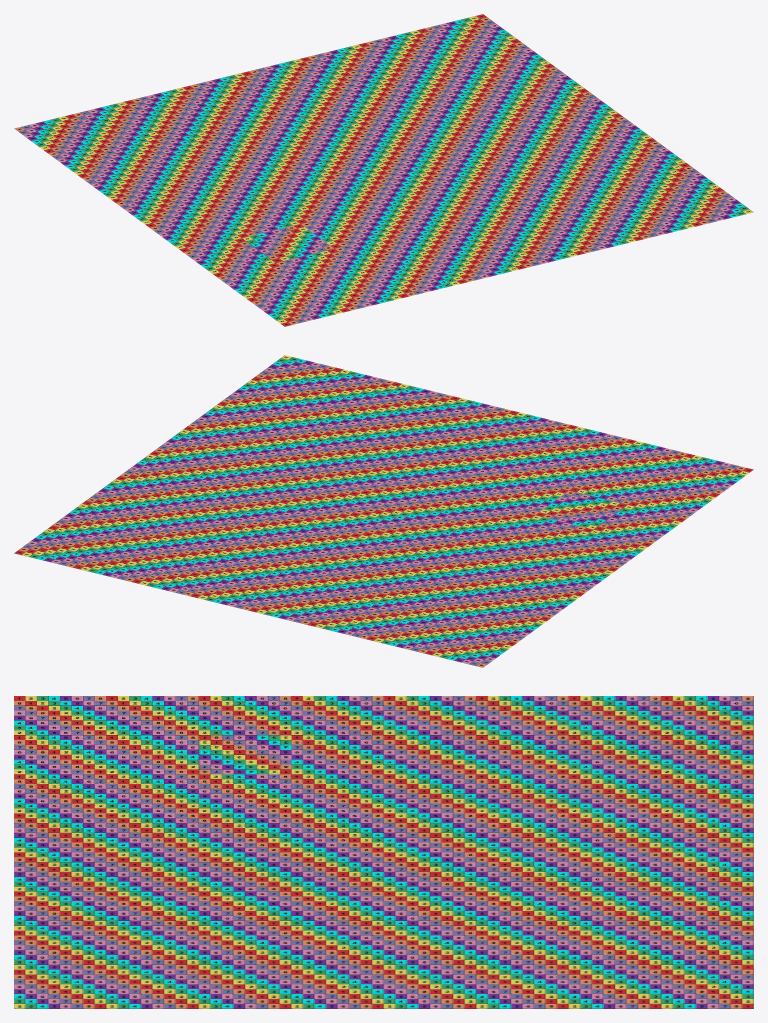
The model's file is watertess_bottom_rightcorner.fbx.
3 renders of one model, top to bottom at view 1: azimuth 30°, elevation 25°; view 2: azimuth 150°, elevation 25°; view 3: azimuth 270°, elevation 25°, orthographic. The views are drawn at different scales.
Visible parts, largest first — view 1: bottom_rightcorner_f; view 2: bottom_rightcorner_f; view 3: bottom_rightcorner_f.
Boxes of the visible parts, x1,y1,x2,y2 form: bottom_rightcorner_f: (14,14,753,326); bottom_rightcorner_f: (14,355,753,667); bottom_rightcorner_f: (14,696,753,1008).
Bounding box in the file's own units: 512 × 8.34e-05 × 512.
